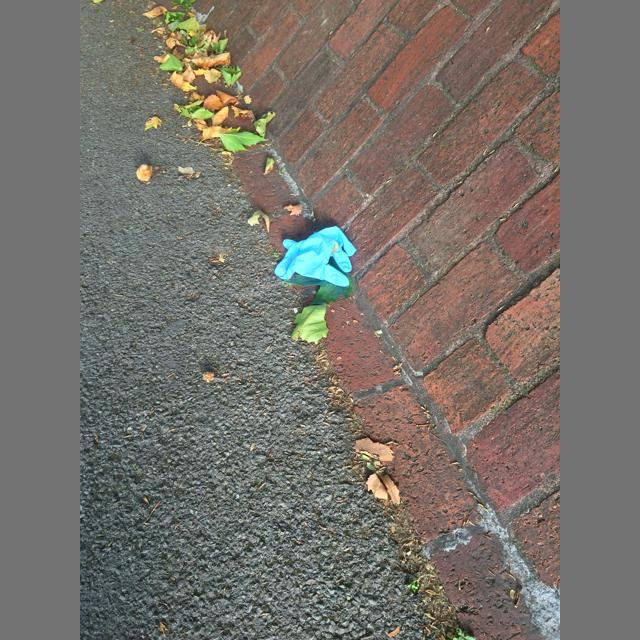litter: (275, 226, 356, 287)
